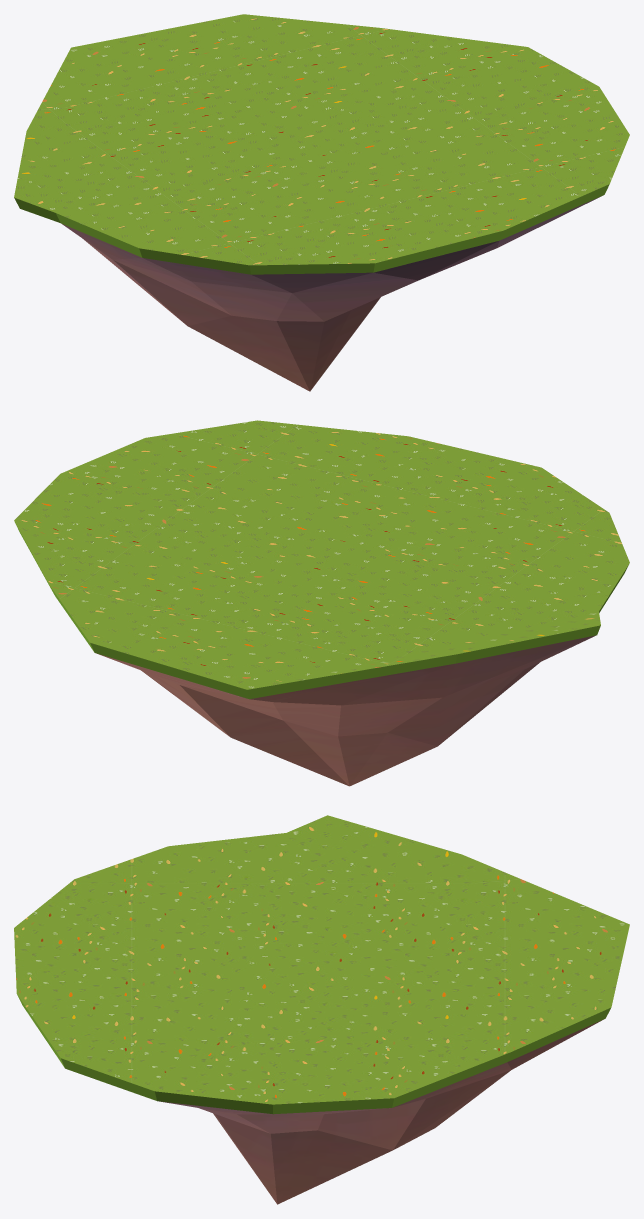
The model's file is plataforma 1.fbx.
The picture shows the model from 3 angles, top to bottom: view 1: azimuth 30°, elevation 25°; view 2: azimuth 150°, elevation 25°; view 3: azimuth 270°, elevation 25°; orthographic projection. The views are drawn at different scales.
Parts seen in each view (by area): view 1: Cylinder; view 2: Cylinder; view 3: Cylinder.
Part boxes in pixels (<box>): Cylinder: <box>14,14,629,391</box>; Cylinder: <box>14,420,629,786</box>; Cylinder: <box>14,815,629,1204</box>.
Size of the model in its own units: 2533 by 1052 by 2331.
Materials: 3 (3 with a texture image).
